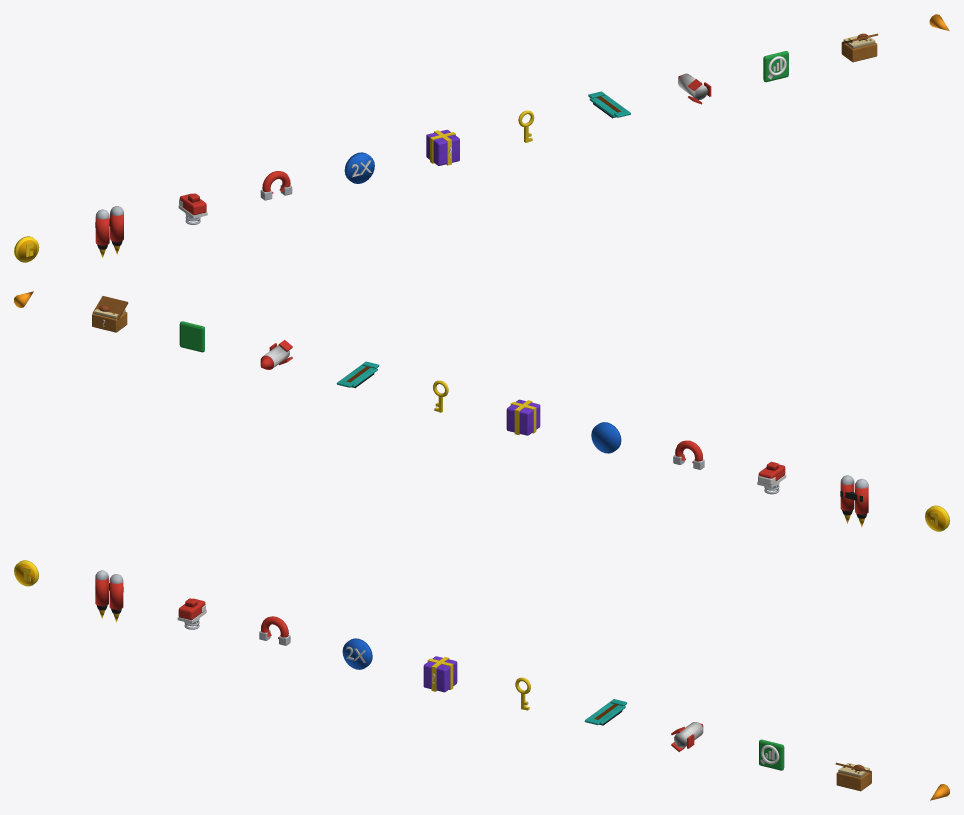
File: pickups.glb
The picture shows the model from 3 angles, top to bottom: view 1: azimuth 30°, elevation 25°; view 2: azimuth 150°, elevation 25°; view 3: azimuth 330°, elevation 25°; orthographic projection.
Parts seen in each view (by area): view 1: jetpack, mystery_box, biryani, multiplier, msg_bubble, sneakers, headstart, hoverboard, magnet; view 2: jetpack, mystery_box, biryani, multiplier, msg_bubble, sneakers, headstart, hoverboard, magnet, coin; view 3: jetpack, mystery_box, biryani, multiplier, msg_bubble, sneakers, headstart, hoverboard, magnet, coin.
Boxes of the visible parts, box(x1,y1,x2,y2) form: jetpack: box(95, 206, 123, 257); mystery_box: box(426, 130, 459, 165); biryani: box(841, 33, 878, 62); multiplier: box(344, 152, 374, 183); msg_bubble: box(763, 51, 788, 82); sneakers: box(178, 193, 207, 224); headstart: box(678, 73, 711, 104); hoverboard: box(588, 91, 630, 118); magnet: box(260, 171, 292, 200); jetpack: box(840, 475, 868, 527); mystery_box: box(506, 399, 540, 435); biryani: box(92, 296, 128, 332); multiplier: box(591, 422, 621, 453); msg_bubble: box(179, 321, 204, 352); sneakers: box(757, 461, 786, 494); headstart: box(260, 340, 292, 369); hoverboard: box(336, 361, 379, 388); magnet: box(673, 440, 704, 469); coin: box(925, 505, 949, 531); jetpack: box(95, 570, 123, 622); mystery_box: box(423, 656, 457, 692); biryani: box(835, 762, 871, 791); multiplier: box(342, 638, 372, 669); msg_bubble: box(759, 739, 784, 770); sneakers: box(177, 598, 206, 629); headstart: box(671, 722, 703, 751); hoverboard: box(584, 699, 626, 725); magnet: box(259, 616, 290, 645); coin: box(14, 560, 38, 586).
Bounding box in the file's own units: 33.63 × 1.67 × 1.85.
Materials: 2 (1 with a texture image).
